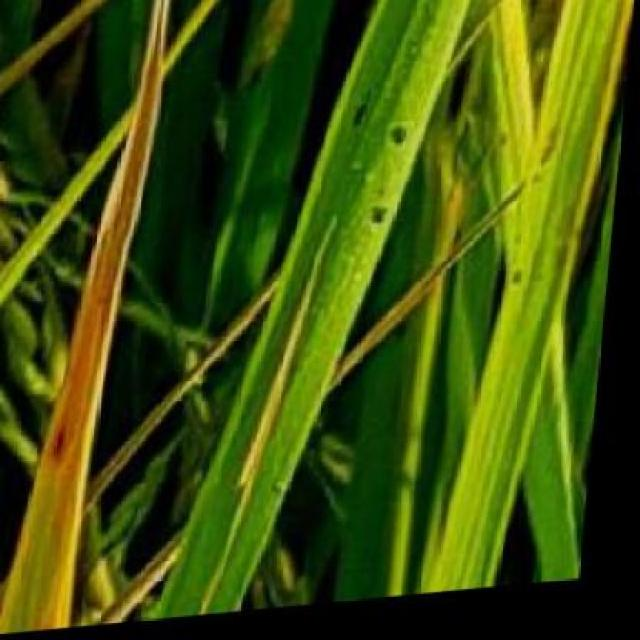Brown_Spot: (45, 0, 183, 497)
